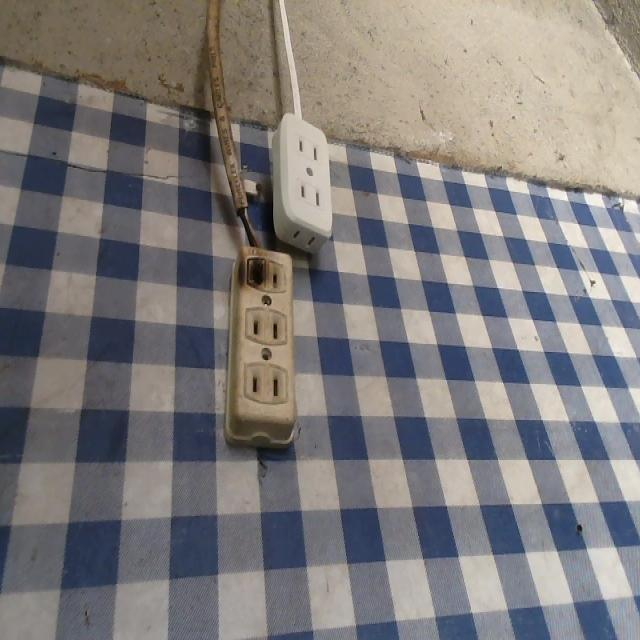-: (242, 247, 271, 293)
